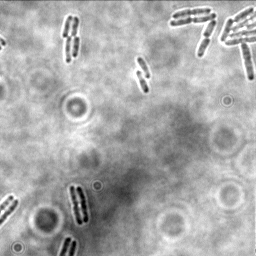Dividing: (196, 19, 218, 58), (169, 12, 217, 27), (69, 185, 84, 225), (0, 198, 19, 229), (75, 185, 90, 224), (172, 6, 212, 19)
Microcolony: (218, 7, 255, 81), (62, 15, 81, 63)
Rod: (135, 69, 150, 94), (135, 56, 151, 79)
